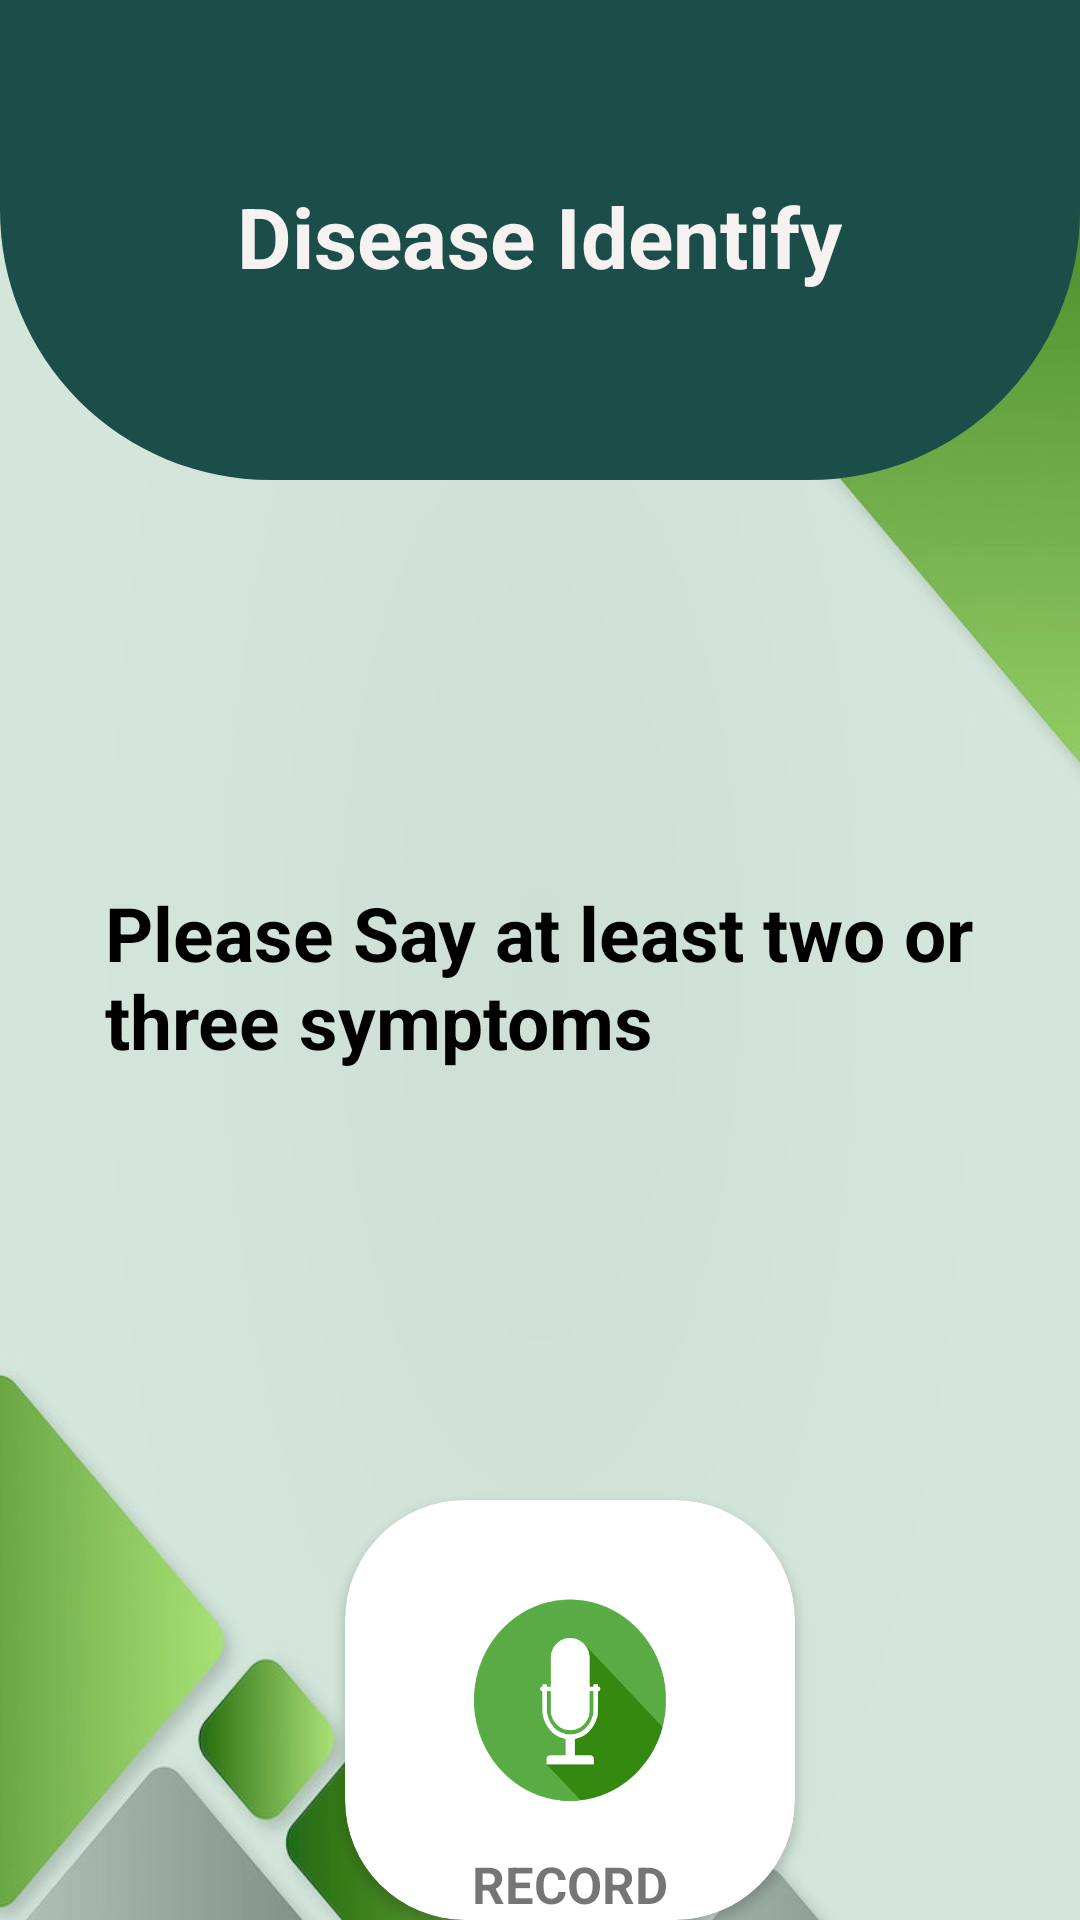

Locate icon controls on the screen. Image size 1080w x 1920h, boxes as (x1, y1, x2, y2).
mic: (474, 1599, 666, 1801)
